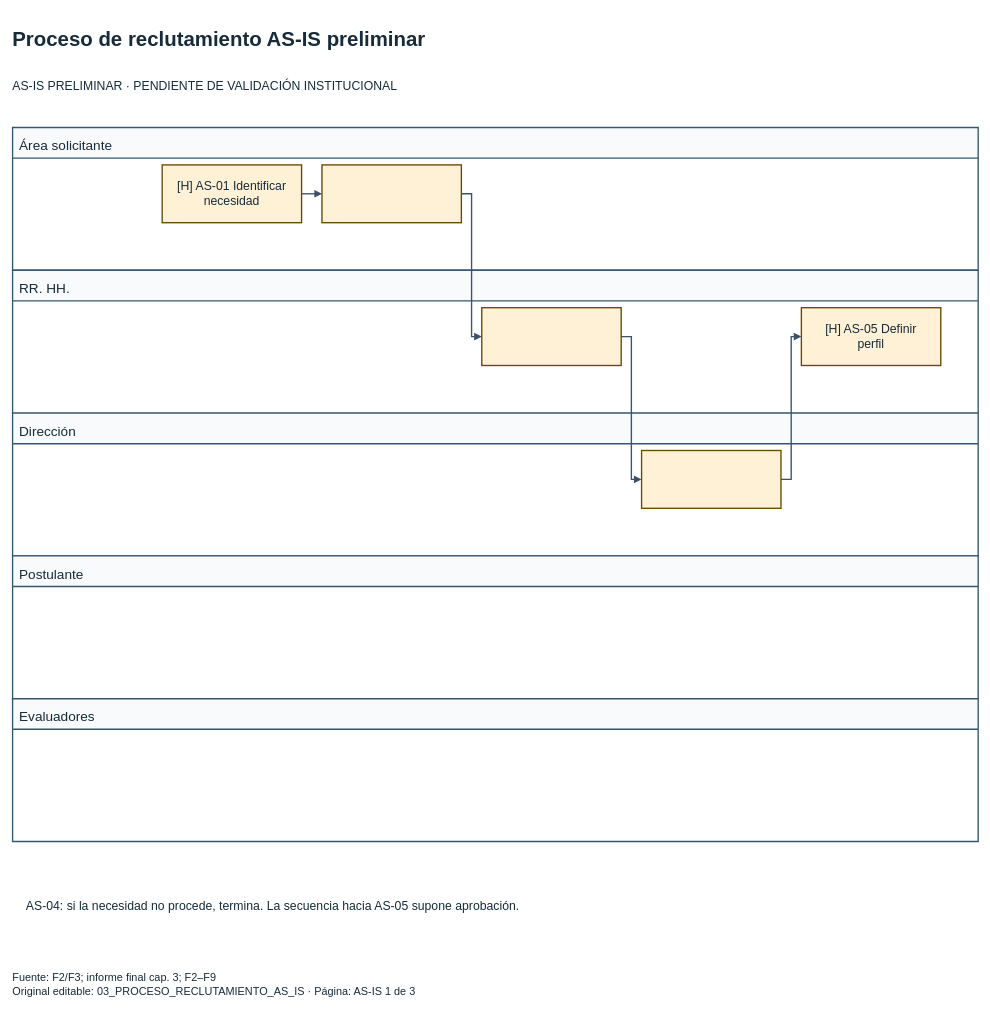
Image size: 990x1017. Some labels were removed from this diagram. The centre of each missing label's shape, as x and y in pixels:
[H] AS-02 Comunicar a RR. HH.: the point at 391,193
[H] AS-03 Revisar necesidad: the point at 551,336
[H] AS-04 Aprobar o no aprobar: the point at 711,479
